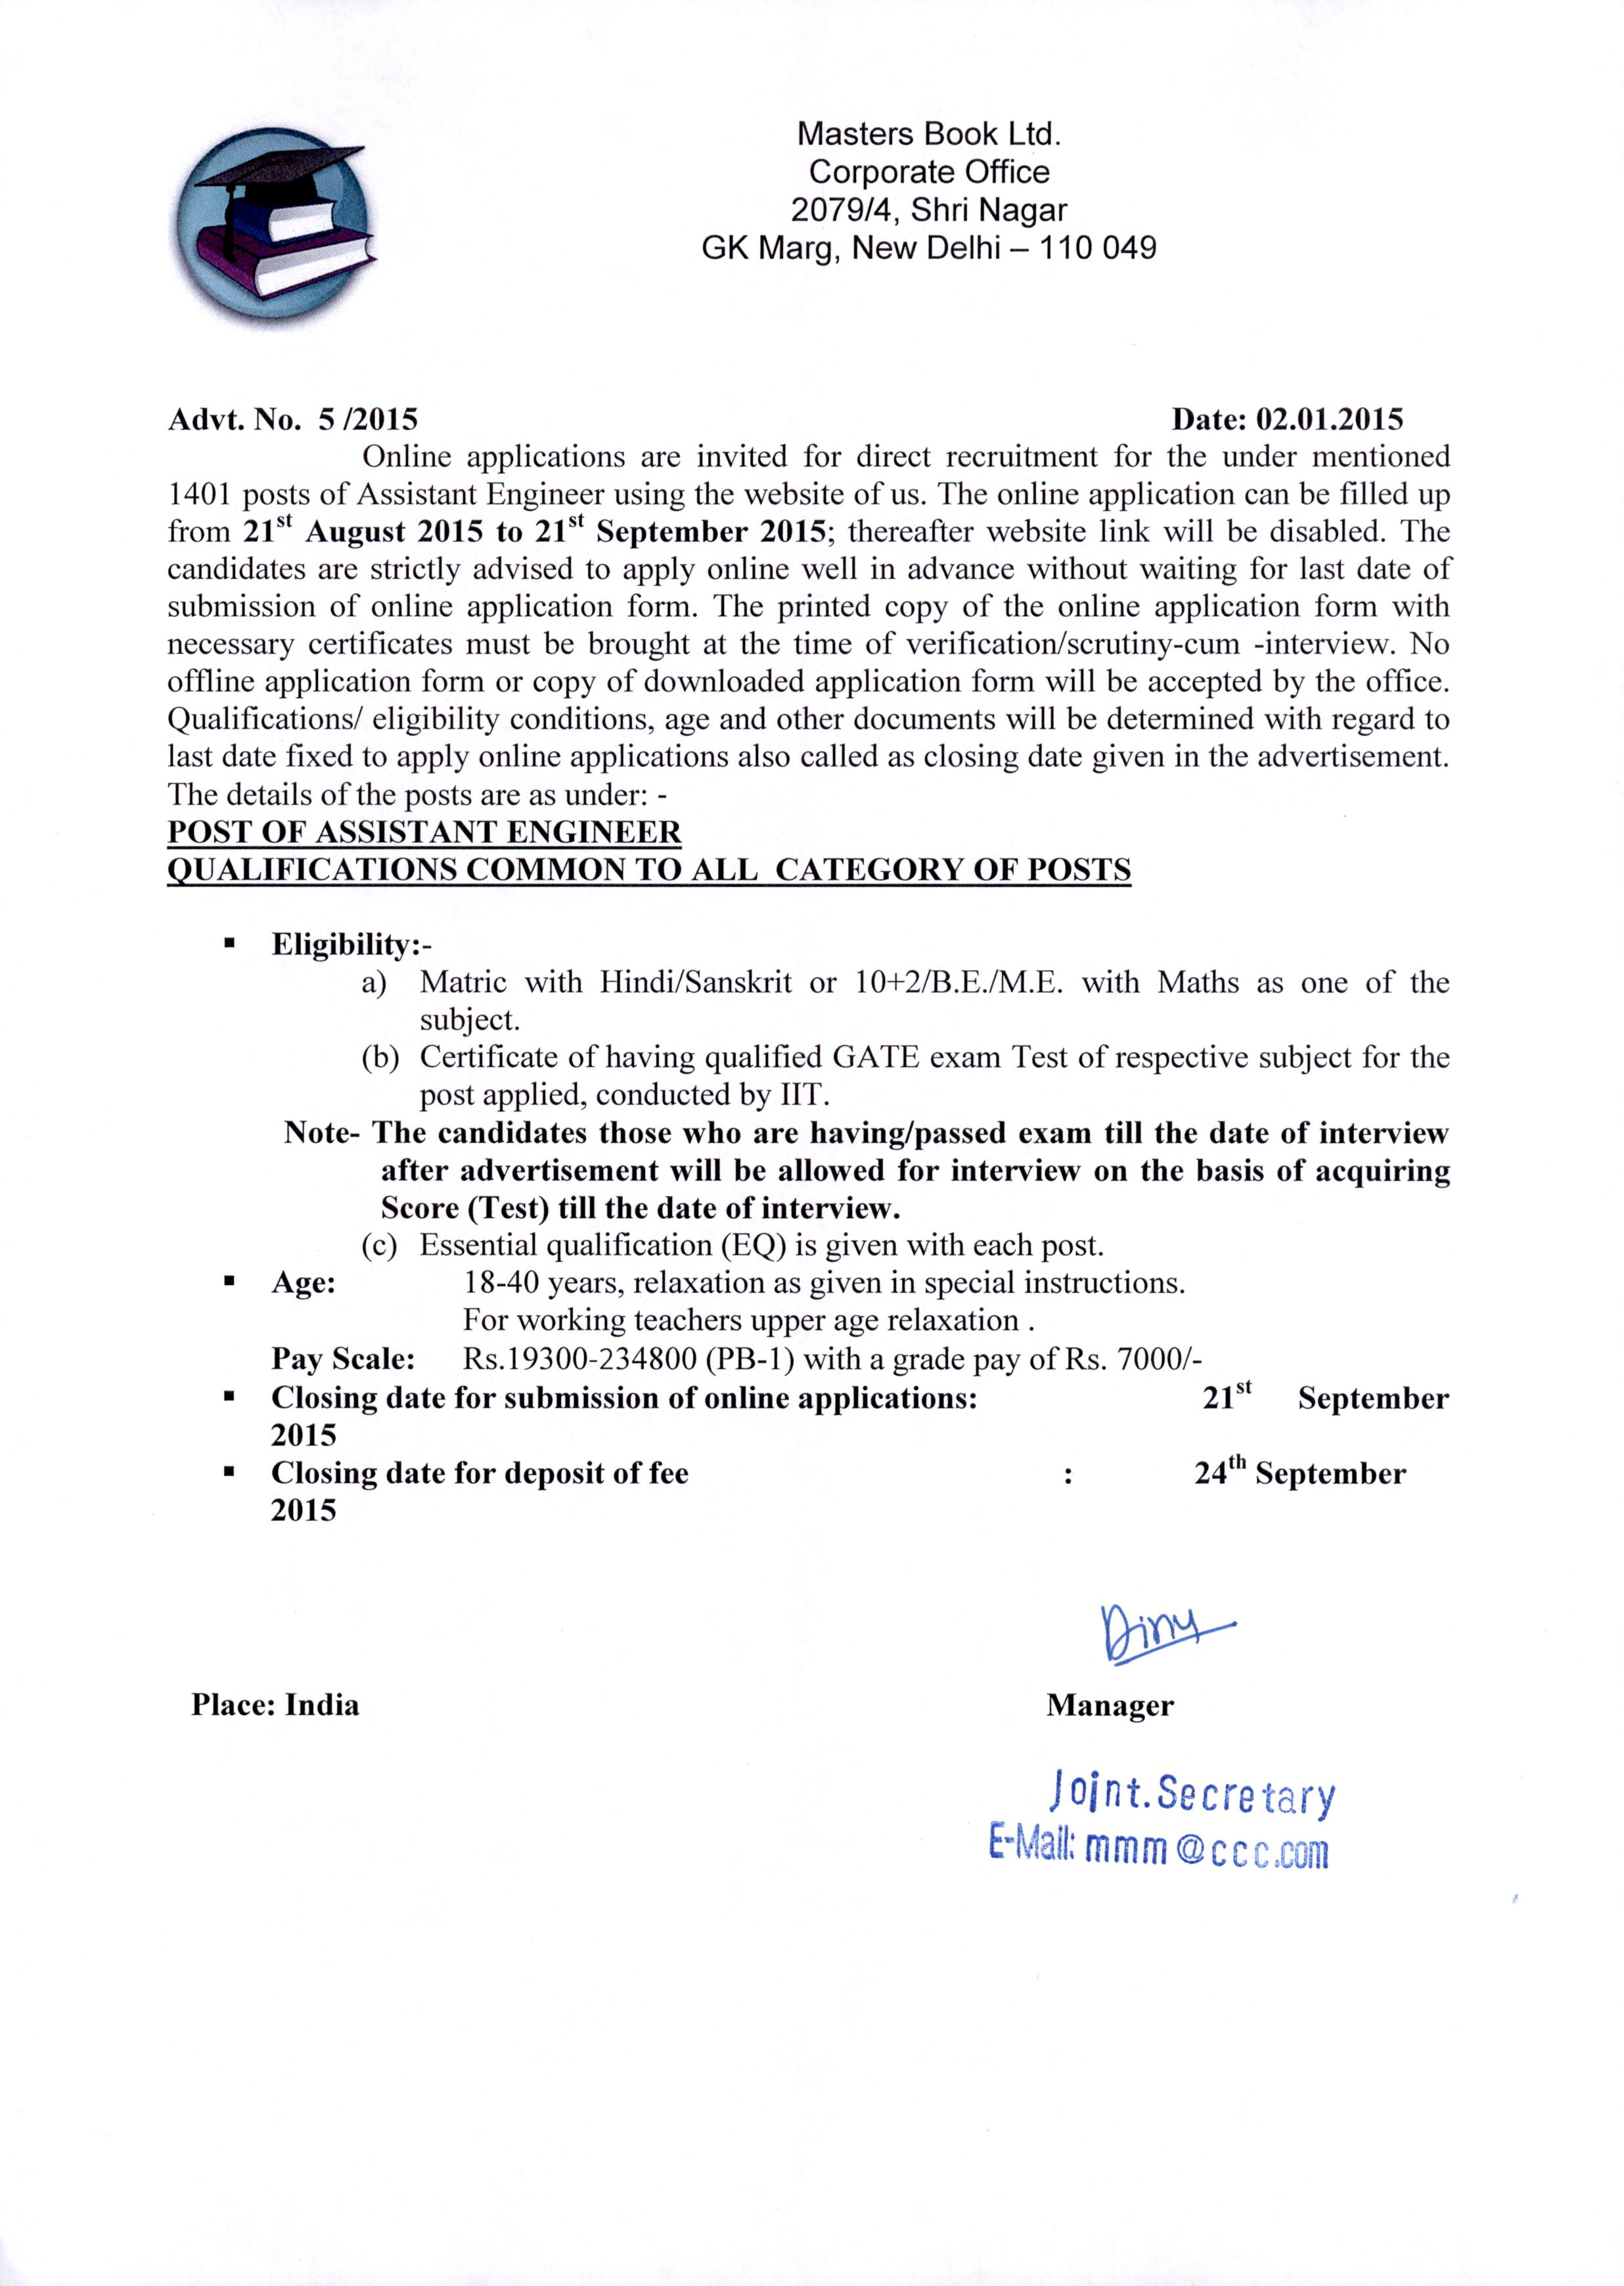Signature: (1088, 1588, 1246, 1676)
